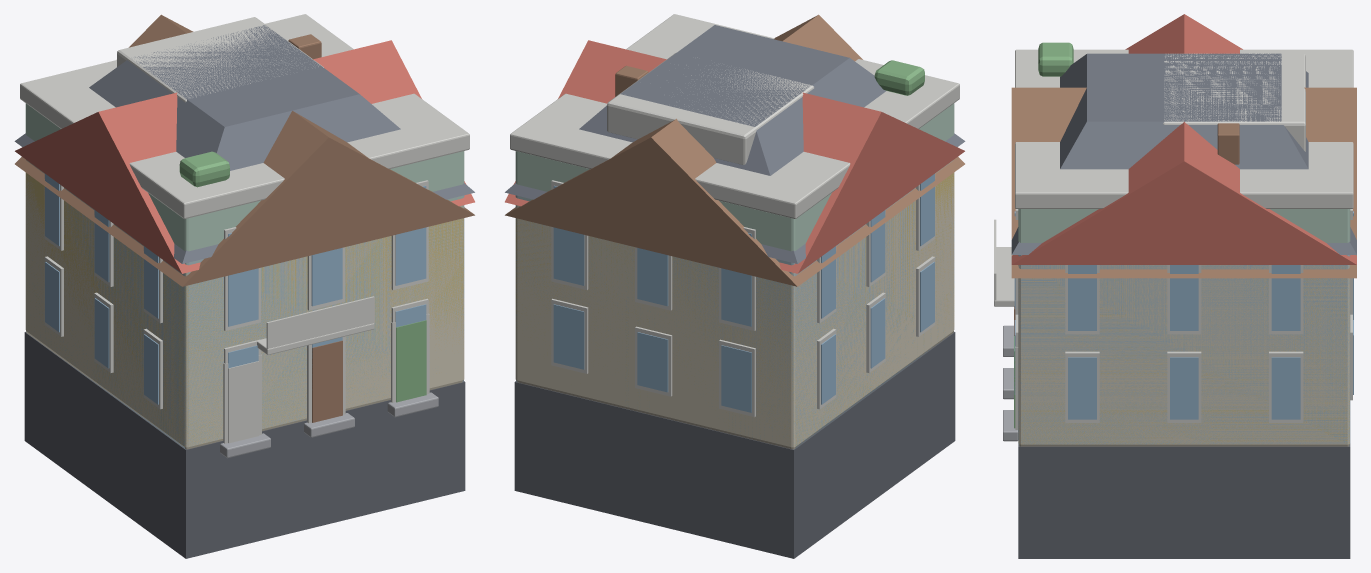
File: houses.glb
3 views of the same model, side by side, from view 1: azimuth 30°, elevation 25°; view 2: azimuth 150°, elevation 25°; view 3: azimuth 270°, elevation 25° (orthographic). The views are drawn at different scales.
Parts seen in each view (by area): view 1: House1, House3, House2, House4; view 2: House1, House2, House3, House4; view 3: House1, House2, House4, House3.
Part boxes in pixels (x1,y1,x2,y2): House1: (15, 34, 474, 558); House3: (15, 14, 474, 446); House2: (14, 25, 474, 458); House4: (20, 14, 469, 445); House1: (505, 40, 964, 558); House2: (505, 25, 965, 448); House3: (505, 14, 964, 445); House4: (510, 14, 959, 444); House1: (1003, 14, 1356, 558); House2: (1003, 53, 1356, 445); House4: (1014, 42, 1353, 444); House3: (994, 87, 1356, 444).
Bounding box in the file's own units: 1.05 × 1.33 × 1.09.
